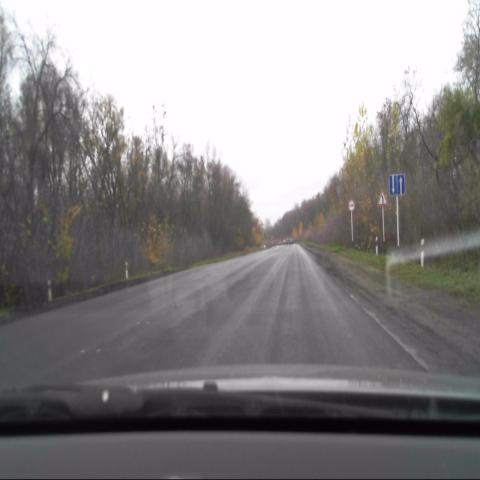5_15_7: (389, 174, 405, 196)
